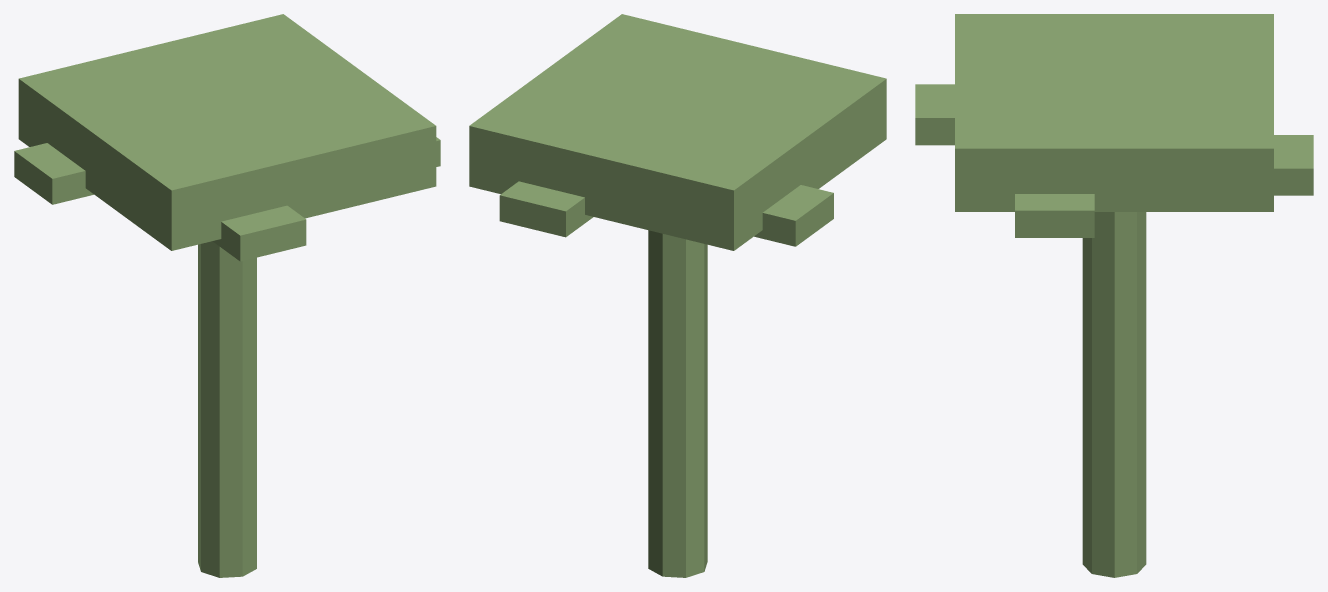
Rendered from palm_tree.glb.
The picture shows the model from 3 angles, left to right: view 1: azimuth 30°, elevation 25°; view 2: azimuth 150°, elevation 25°; view 3: azimuth 270°, elevation 25°; orthographic projection. The views are drawn at different scales.
Bounding box in the file's own units: 2 × 2.67 × 2.
